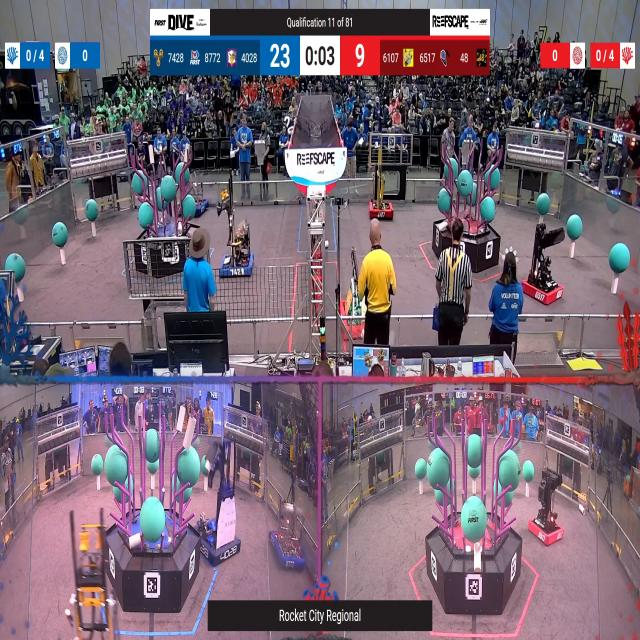scoreboard: (150, 35, 490, 75)
